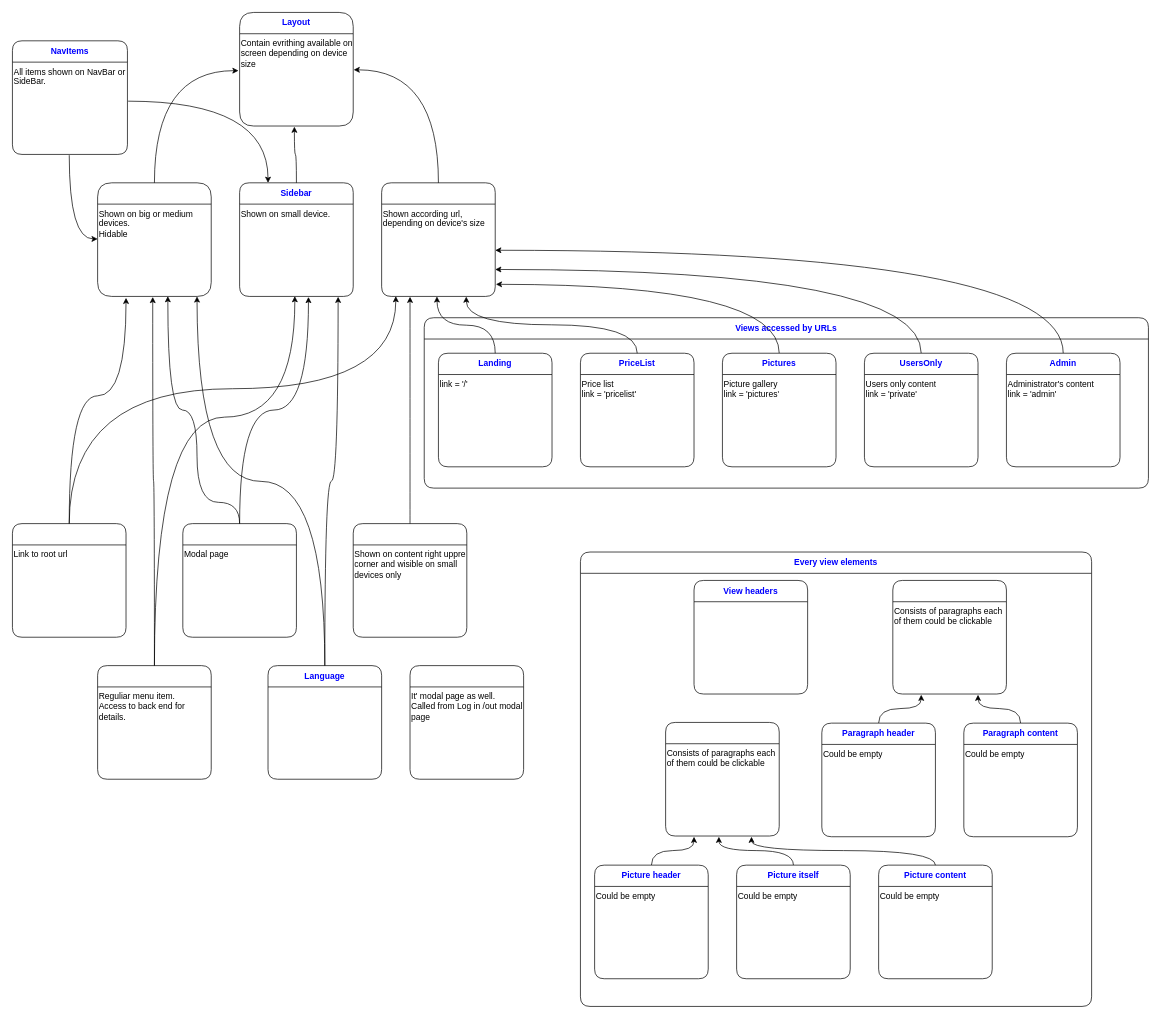
This 1161x1019 diagram has some shape labels left out. The shapes that lost their labels are listed below. From the top down, each one's box as (x1, y1, x2, y2) in pixels, then its label:
(97, 182, 211, 296): NavBar
(381, 182, 495, 296): Content
(12, 523, 126, 637): Logo
(182, 523, 296, 637): LogInOut
(353, 523, 467, 637): SBSwitcher
(892, 580, 1006, 694): View paragraphs
(97, 665, 211, 779): NavItem
(409, 665, 524, 779): SignUp
(665, 722, 779, 836): View pictures
